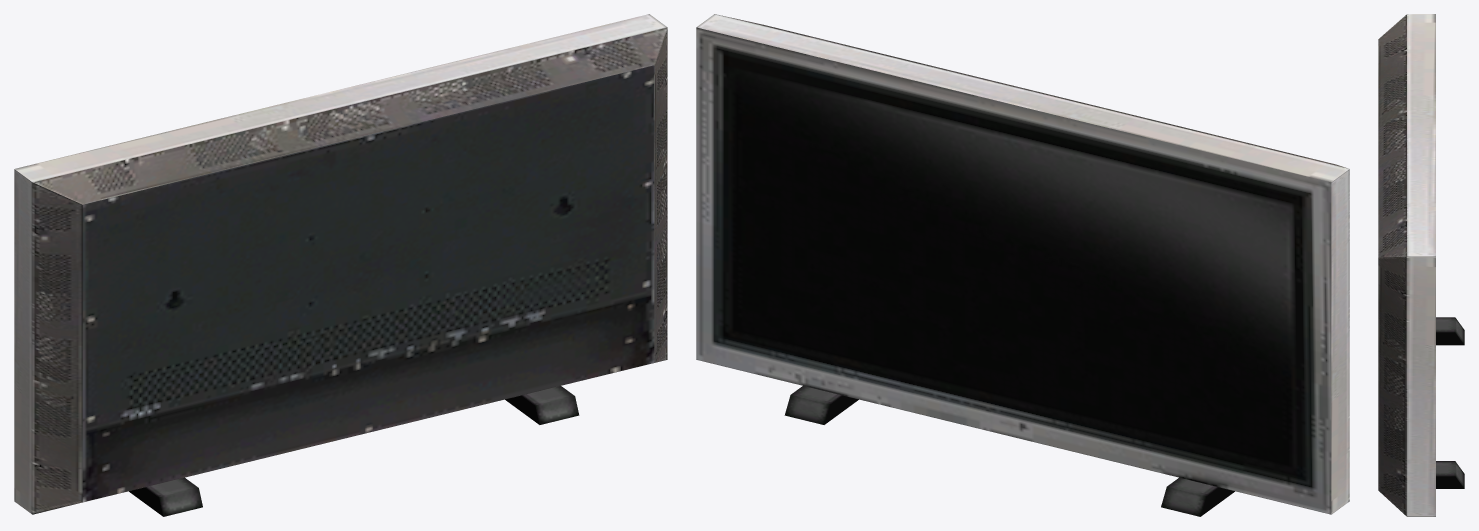
Rendered from widescreen_tv.fbx.
3 views of the same model, side by side, from view 1: azimuth 30°, elevation 25°; view 2: azimuth 150°, elevation 25°; view 3: azimuth 270°, elevation 25° (orthographic). The views are drawn at different scales.
Visible parts, largest first — view 1: mesh_0; view 2: mesh_0; view 3: mesh_0.
Part boxes in pixels (x1,y1,x2,y2): mesh_0: [14, 14, 667, 516]; mesh_0: [696, 14, 1349, 516]; mesh_0: [1378, 14, 1464, 516].
Bounding box in the file's own units: 132 × 69.11 × 19.77.
Materials: 1 (1 with a texture image).
